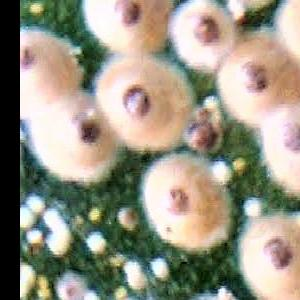Femea: (107, 70, 179, 142), (153, 168, 215, 240), (19, 26, 72, 101), (58, 101, 120, 165), (249, 228, 299, 299), (235, 53, 287, 112), (182, 5, 230, 60), (92, 0, 158, 34), (270, 113, 299, 186), (185, 108, 226, 154), (116, 206, 141, 232)
Linfa: (122, 259, 147, 289), (146, 256, 170, 282), (46, 233, 70, 254), (27, 194, 48, 213), (240, 196, 261, 215), (47, 216, 65, 235), (86, 233, 102, 254), (40, 208, 57, 225), (19, 208, 35, 226), (28, 231, 45, 247)
